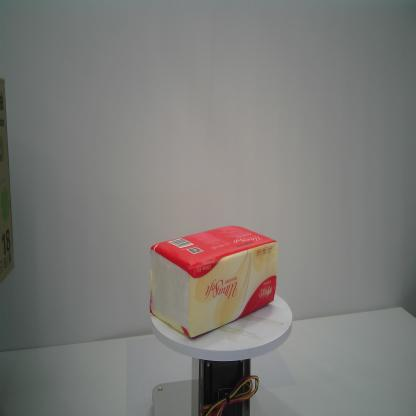Tissue: (148, 223, 280, 342)
